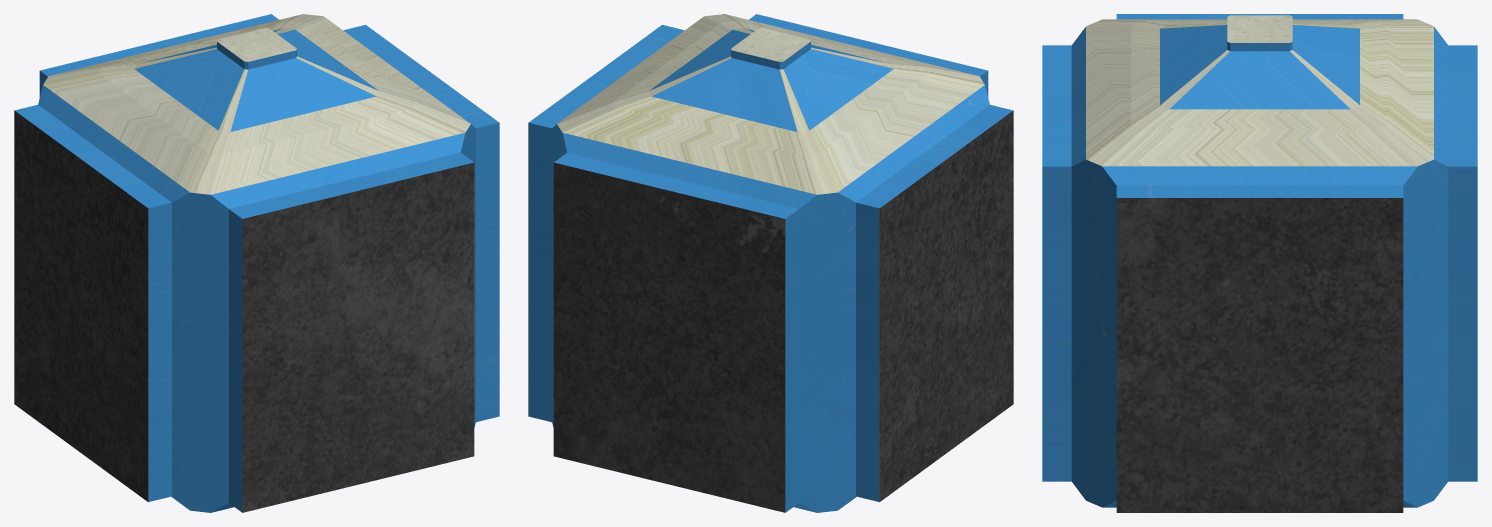
Rendered from FuelCore.fbx.
3 renders of one model, left to right at view 1: azimuth 30°, elevation 25°; view 2: azimuth 150°, elevation 25°; view 3: azimuth 270°, elevation 25°, orthographic. The views are drawn at different scales.
Visible parts, largest first — view 1: outercasing, Cube, innercasing; view 2: outercasing, Cube, innercasing; view 3: outercasing, Cube, innercasing.
Part boxes in pixels (left/top/right/bottom): outercasing: left=14, top=110, right=474, bottom=512; Cube: left=15, top=14, right=499, bottom=512; innercasing: left=43, top=14, right=470, bottom=194; outercasing: left=553, top=110, right=1013, bottom=512; Cube: left=528, top=14, right=1012, bottom=512; innercasing: left=557, top=14, right=984, bottom=194; outercasing: left=1116, top=198, right=1403, bottom=512; Cube: left=1042, top=14, right=1477, bottom=507; innercasing: left=1086, top=15, right=1433, bottom=166.
Bounding box in the file's own units: 231 × 231 × 275.
Materials: 3 (3 with a texture image).
